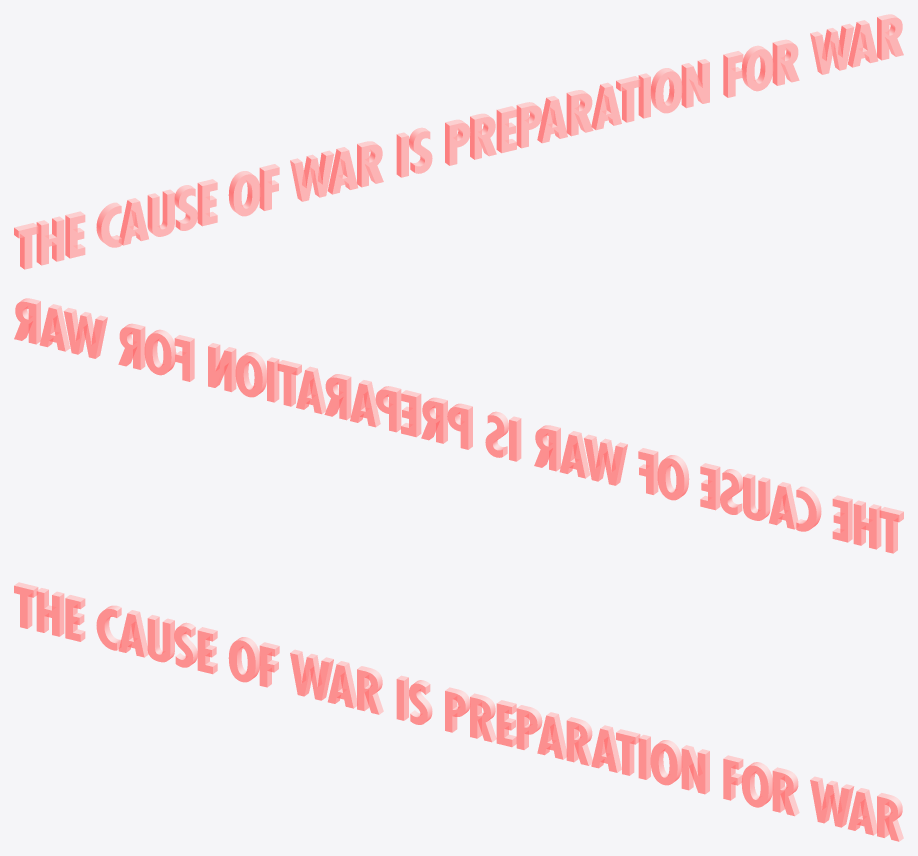
The picture shows the model from 3 angles, top to bottom: view 1: azimuth 30°, elevation 25°; view 2: azimuth 150°, elevation 25°; view 3: azimuth 330°, elevation 25°; orthographic projection.
Visible parts, largest first — view 1: typeMesh1; view 2: typeMesh1; view 3: typeMesh1.
Boxes of the visible parts, left/top/right/bottom form: typeMesh1: left=14, top=14, right=903, bottom=269; typeMesh1: left=14, top=298, right=903, bottom=553; typeMesh1: left=14, top=582, right=903, bottom=841.
Bounding box in the file's own units: 1.54 × 0.0691 × 0.0142.
